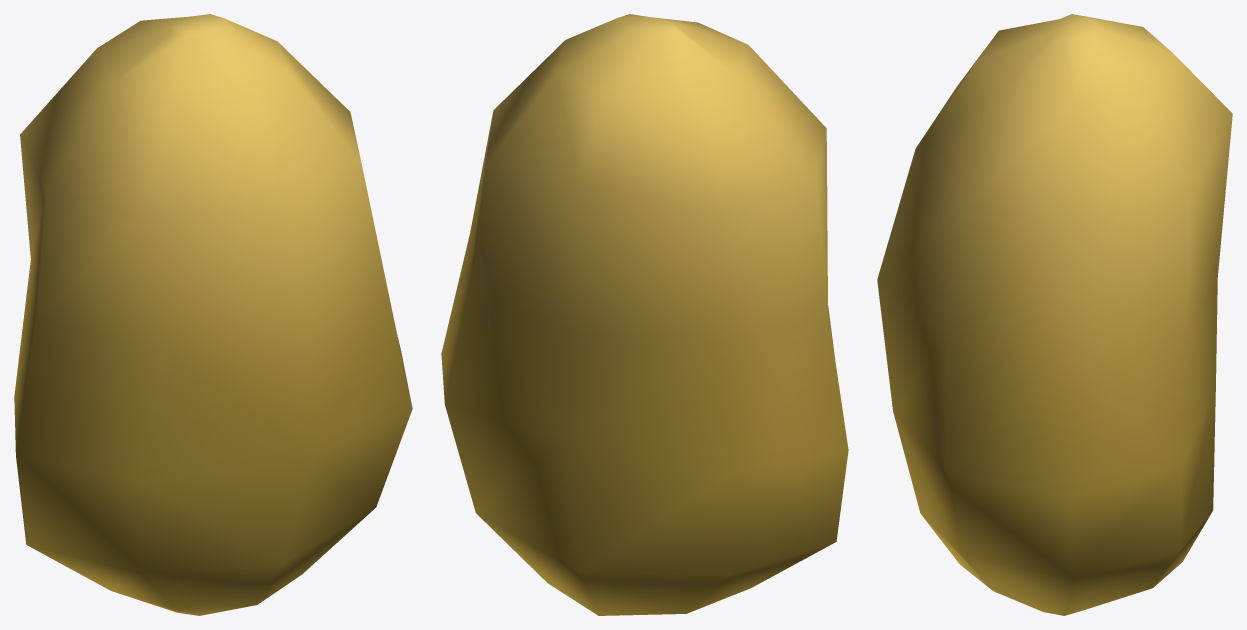
The model's file is Potato.fbx.
3 views of the same model, side by side, from view 1: azimuth 30°, elevation 25°; view 2: azimuth 150°, elevation 25°; view 3: azimuth 270°, elevation 25° (orthographic). The views are drawn at different scales.
Visible parts, largest first — view 1: Potato; view 2: Potato; view 3: Potato.
Part boxes in pixels (<box>): Potato: <box>14,14,412,615</box>; Potato: <box>441,14,848,615</box>; Potato: <box>877,14,1232,615</box>.
Bounding box in the file's own units: 0.1482 × 0.2069 × 0.1167.
Materials: 1 (1 with a texture image).
